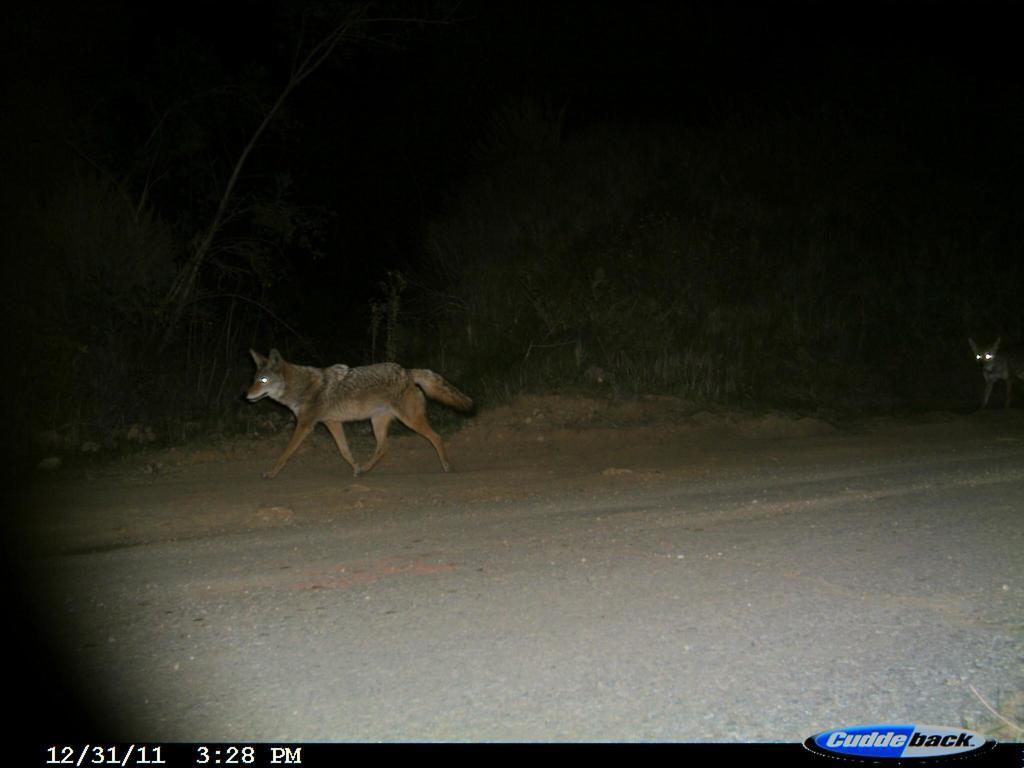coyote: (240, 338, 493, 489), (958, 330, 1024, 412)
